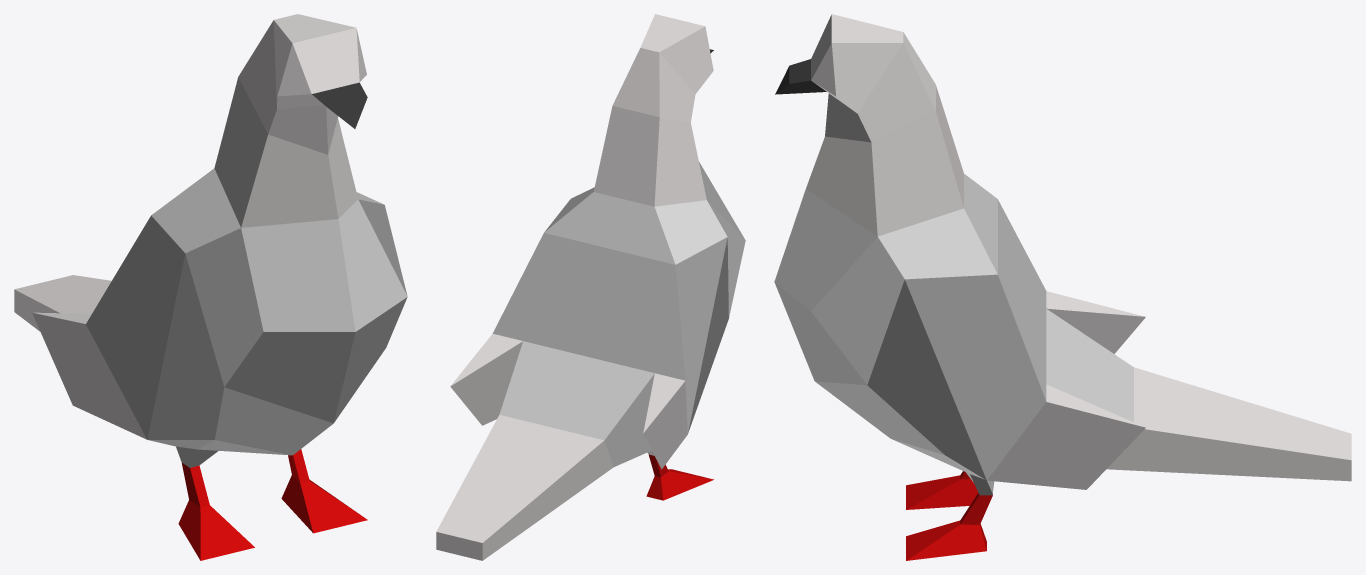
The model's file is WhitePigeon.fbx.
3 views of the same model, side by side, from view 1: azimuth 30°, elevation 25°; view 2: azimuth 150°, elevation 25°; view 3: azimuth 270°, elevation 25° (orthographic). The views are drawn at different scales.
Parts seen in each view (by area): view 1: pigeon_01; view 2: pigeon_01; view 3: pigeon_01.
Part boxes in pixels (left/top/right/bottom): pigeon_01: left=14, top=14, right=407, bottom=560; pigeon_01: left=436, top=14, right=745, bottom=560; pigeon_01: left=774, top=14, right=1351, bottom=560.
Size of the model in its own units: 23.39 by 48.69 by 51.5.
